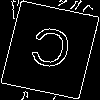C: (25, 25, 75, 79)
